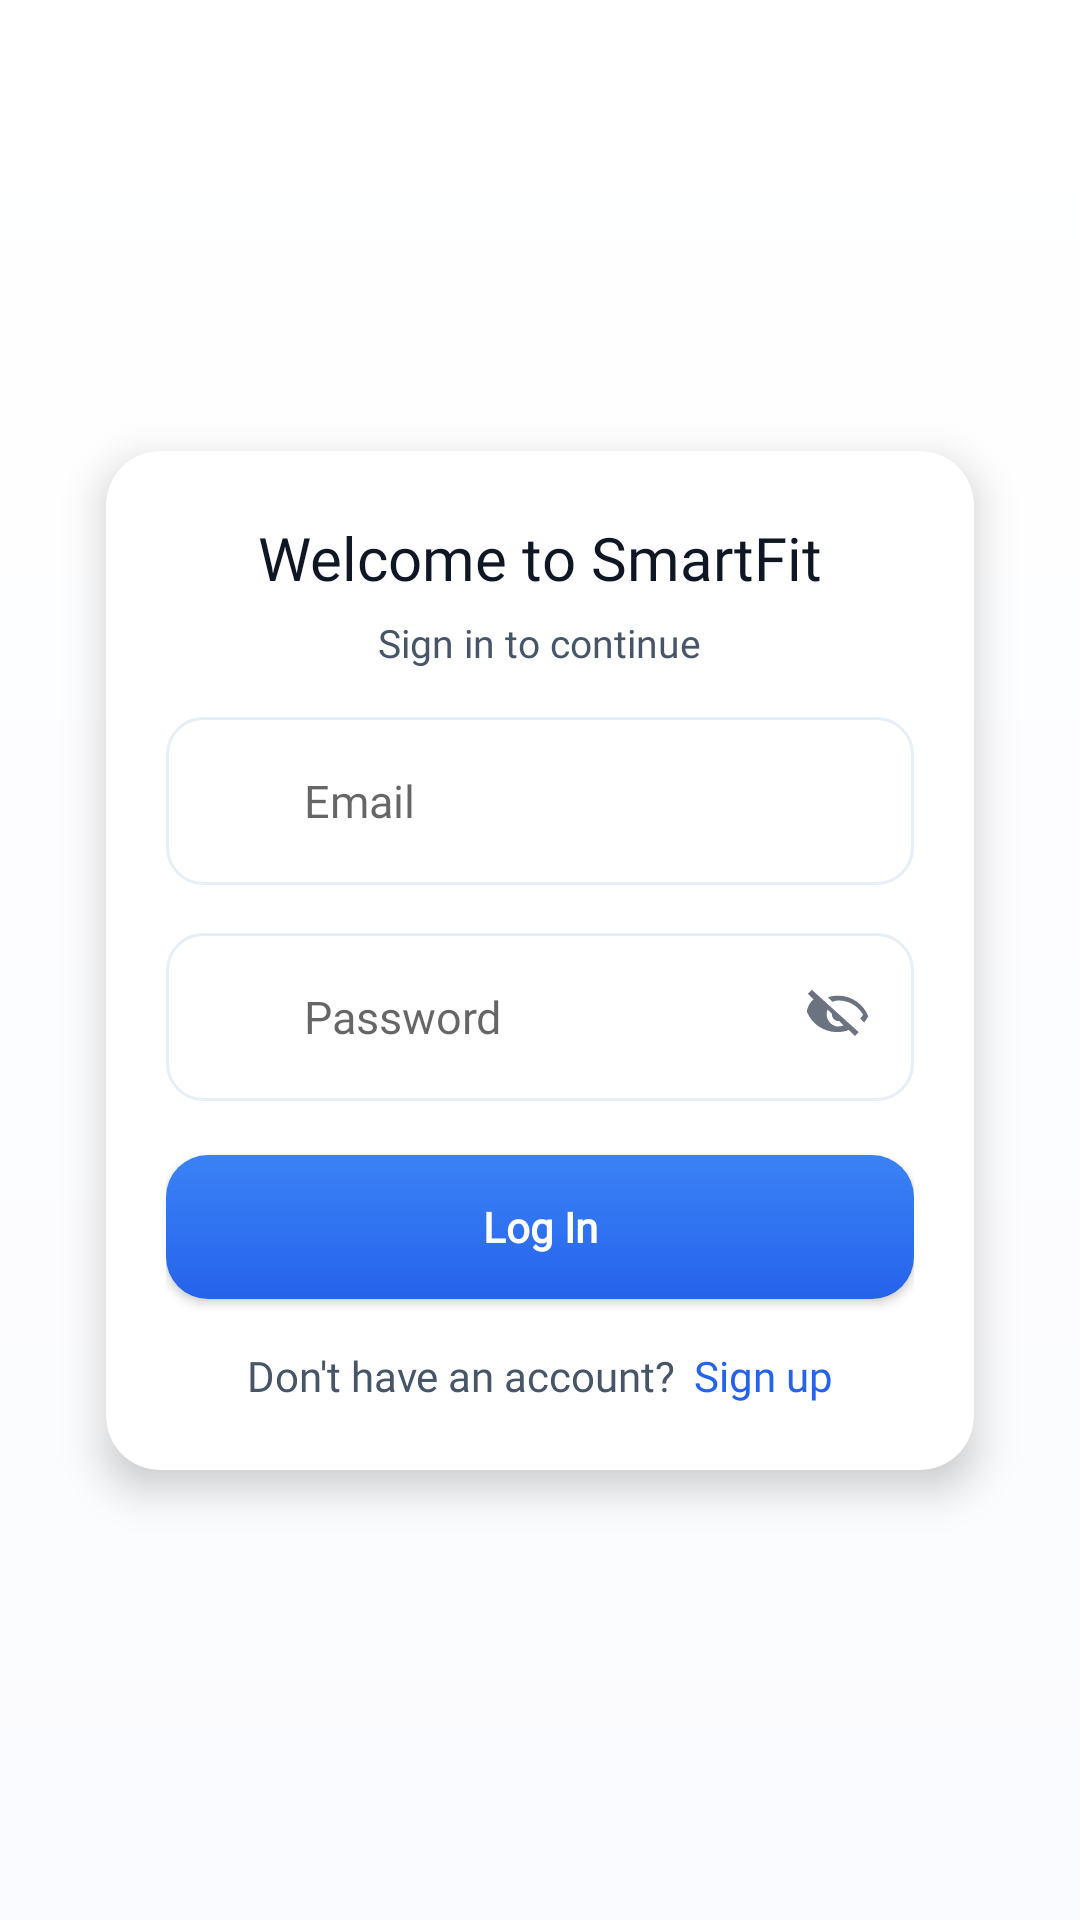

Named icons in this screenshot (1080×1920) and their bounding boxes, (x1, y1, x2, y2):
toggle: (806, 990, 868, 1036)
